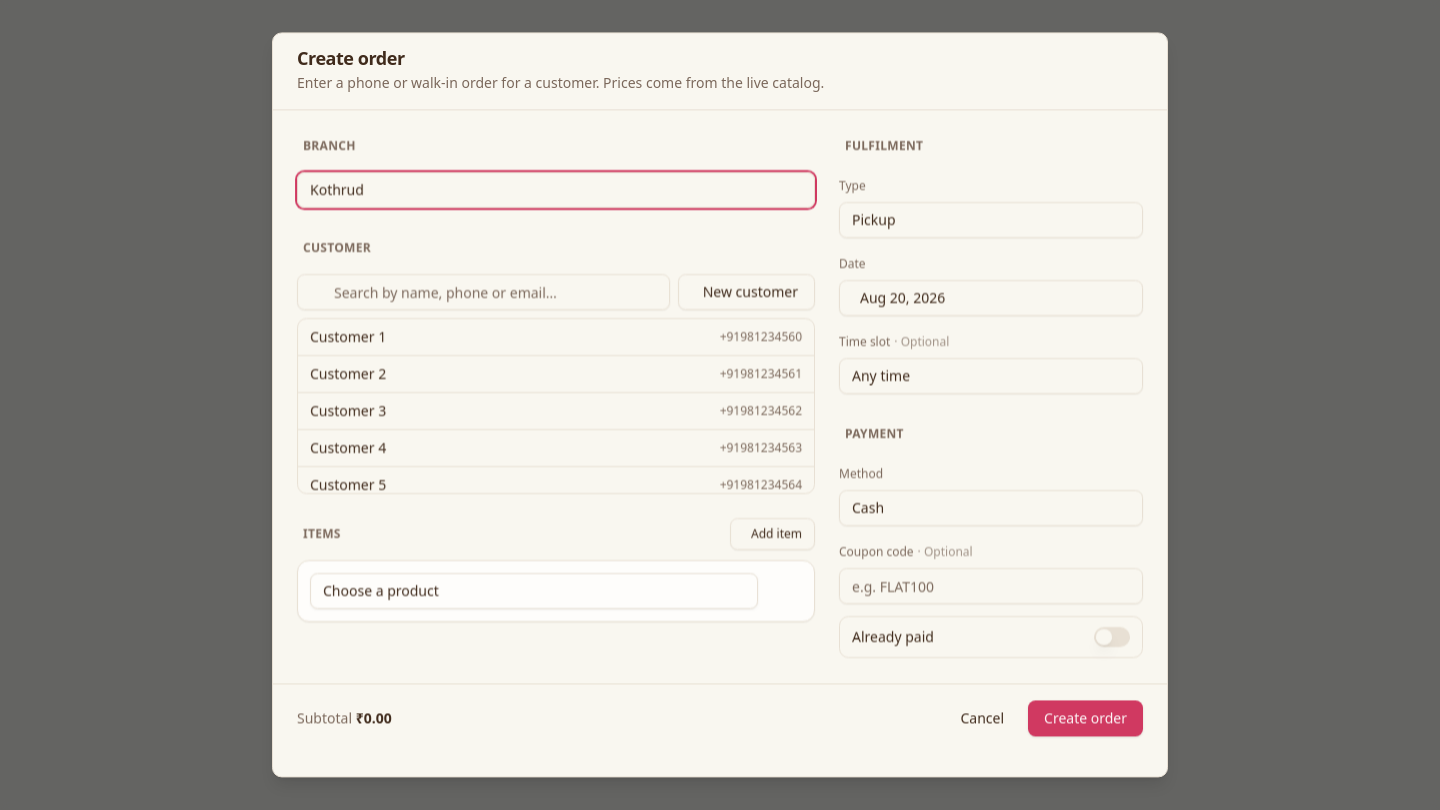
Test: CreateOrderDialog new customer › posts the new customer against the order's branch, and selects them
Step 1. Click the button "New customer" → point(746, 292), box [678,274,815,310]
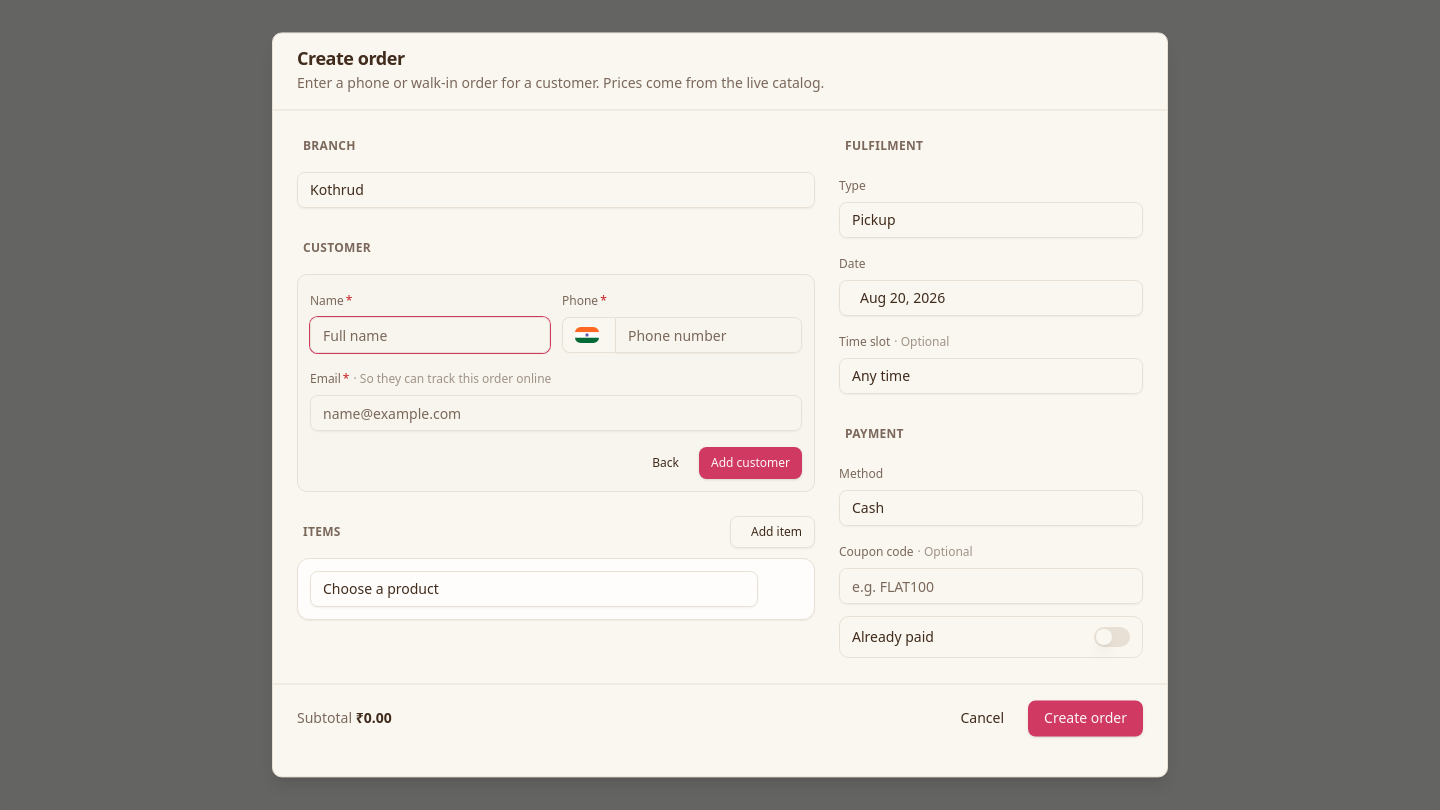
Step 2. Type "Riya Sharma" into the field with placeholder "Full name" → point(430, 335), box [310,317,550,353]
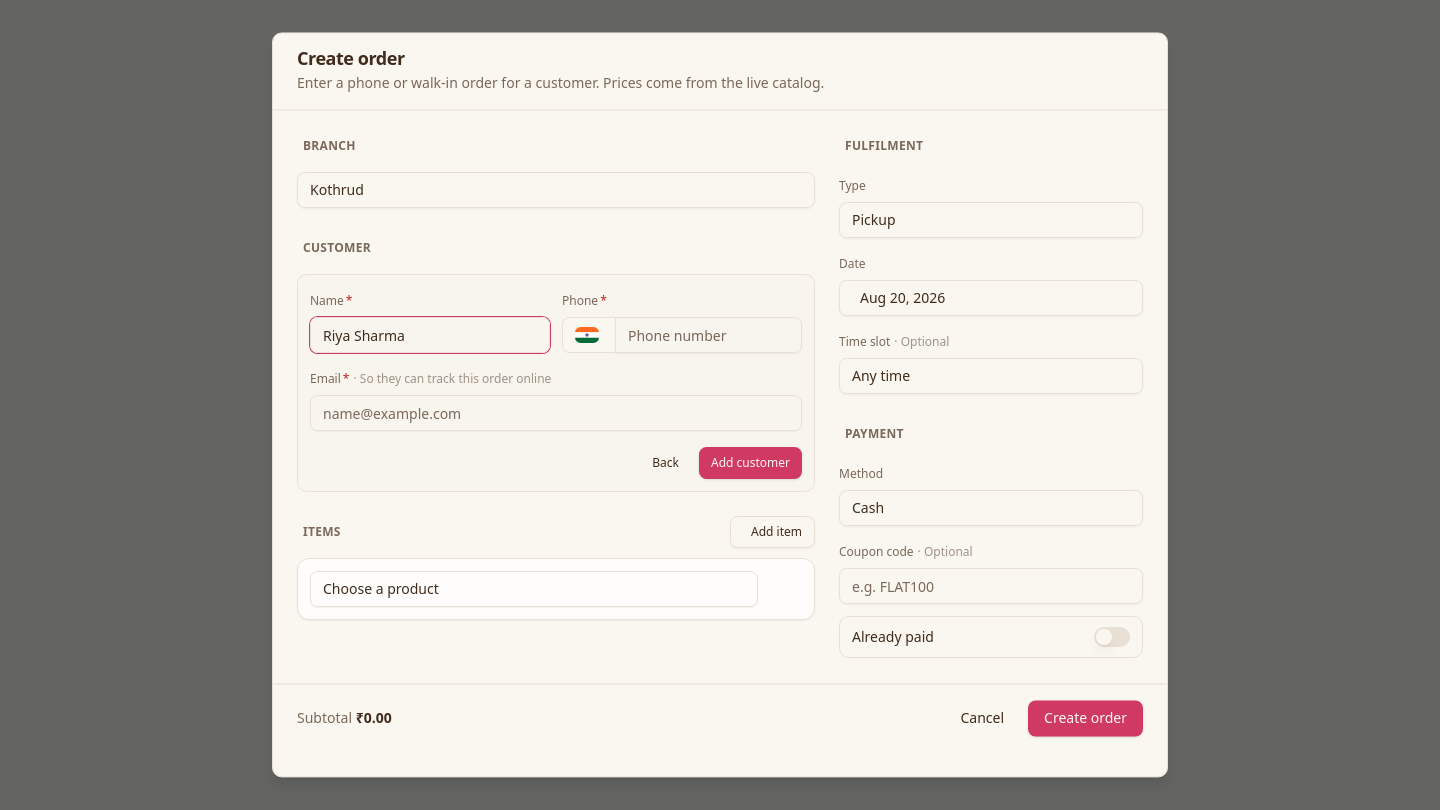
Step 3. Type "9812345678" into the field with placeholder "Phone number" → point(708, 335), box [615,317,802,353]
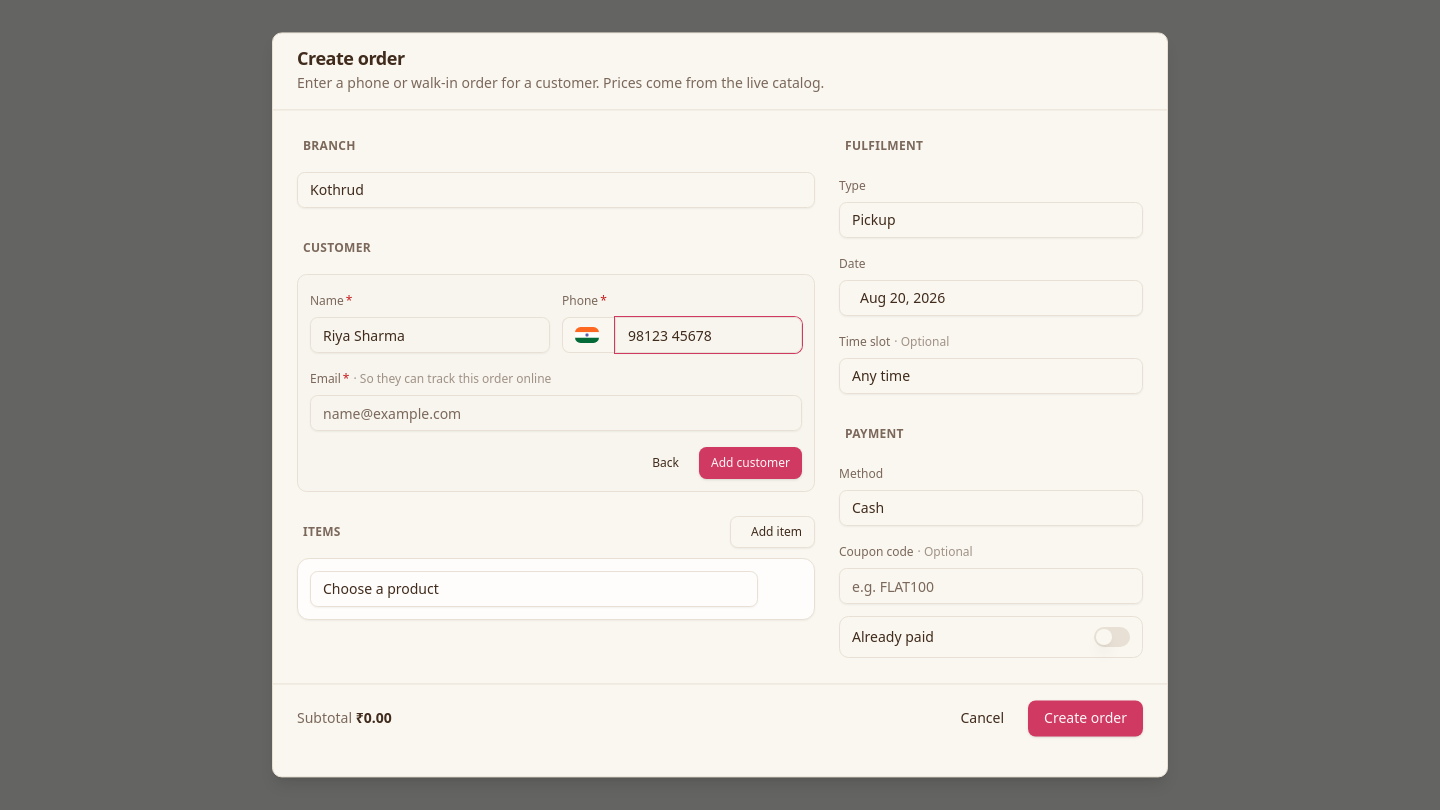
Step 4. Type "riya@example.com" into the field with placeholder "name@example.com" → point(556, 413), box [310,395,802,431]
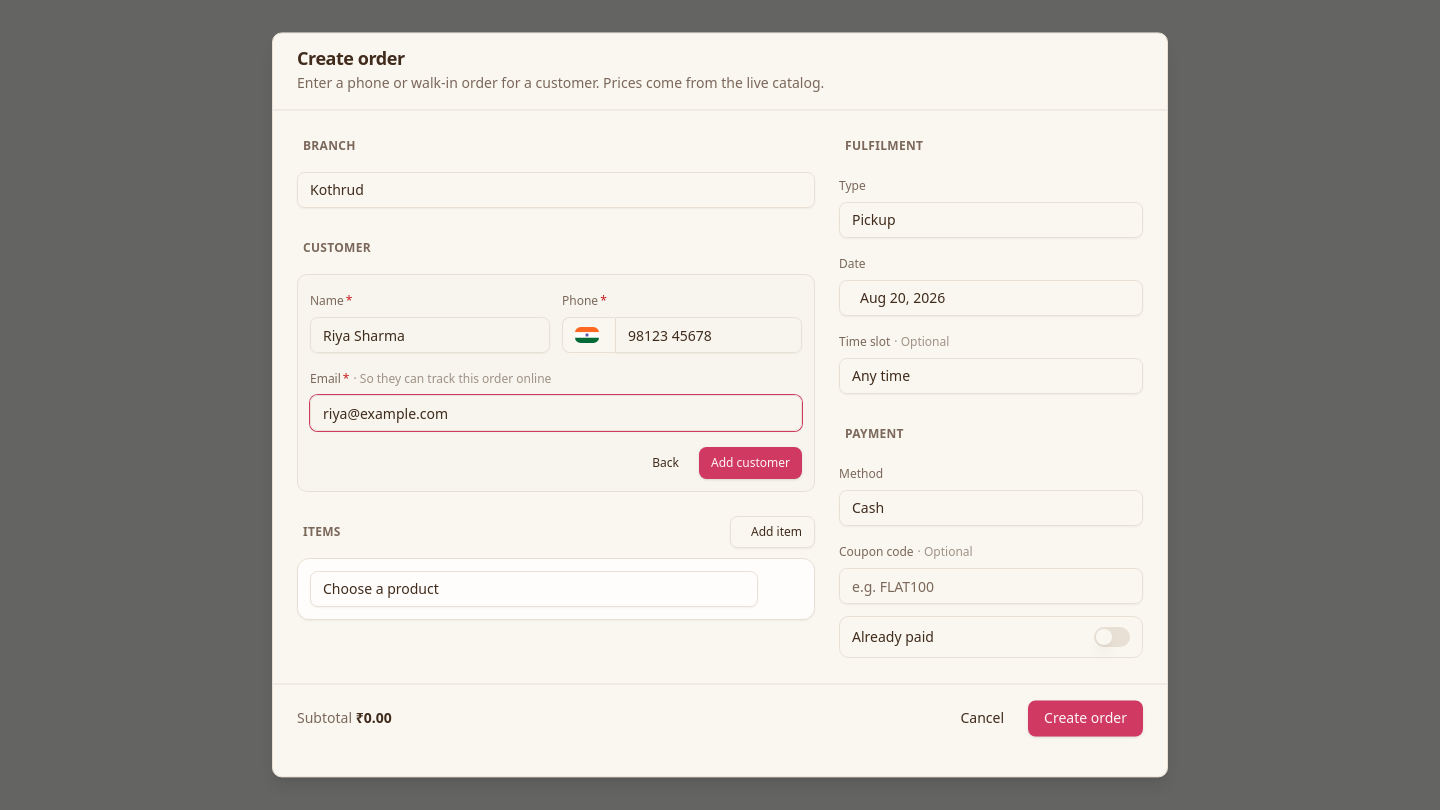
Step 5. Click the button "Add customer" → point(750, 463), box [699,447,802,479]
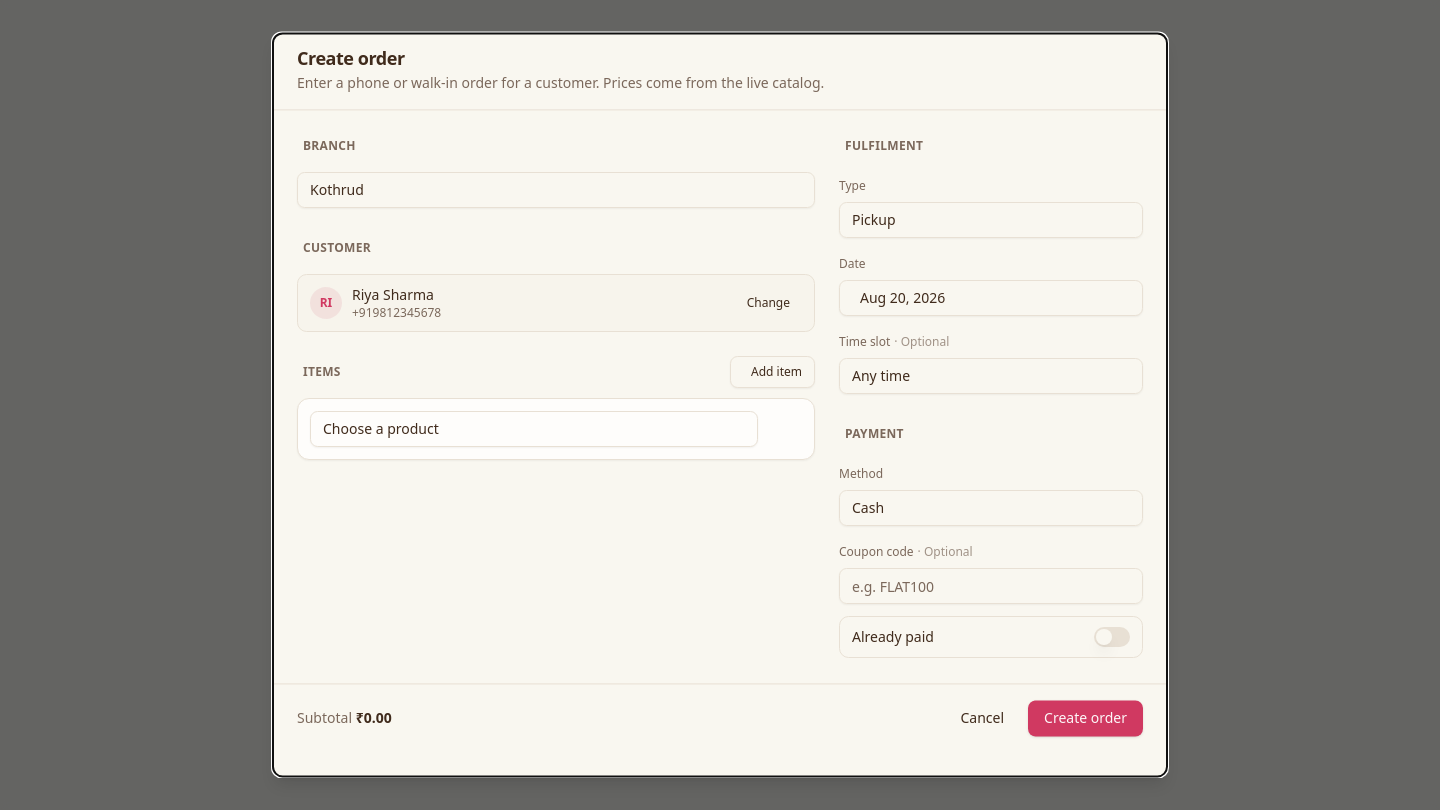
Now the text "Riya Sharma" is shown, box [352,285,441,305]
Now the field with placeholder "search by name, phone or email" is gone
